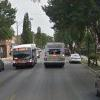Bus: (9, 42, 37, 70)
